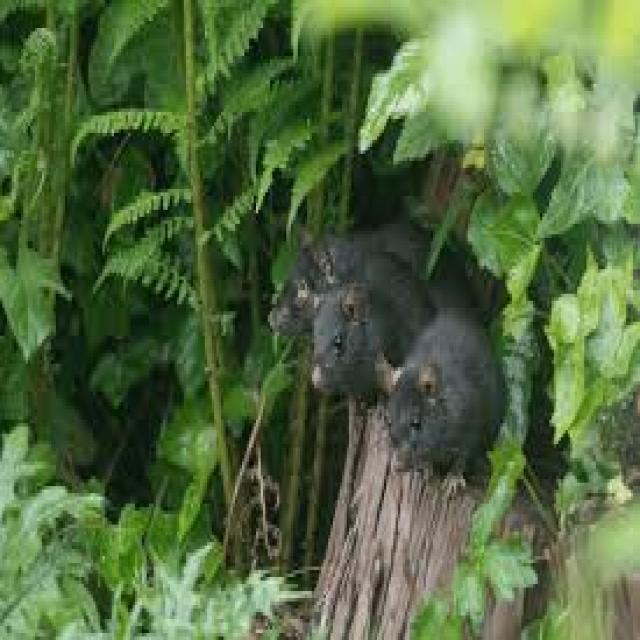Rat: (284, 213, 524, 518)
